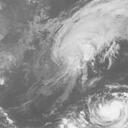cyclone: (50, 24, 104, 72), (88, 93, 126, 126)
